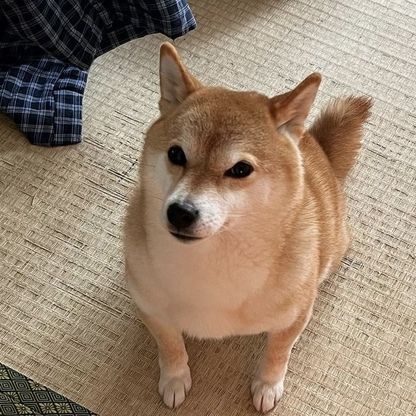shiba: (113, 38, 380, 416)
